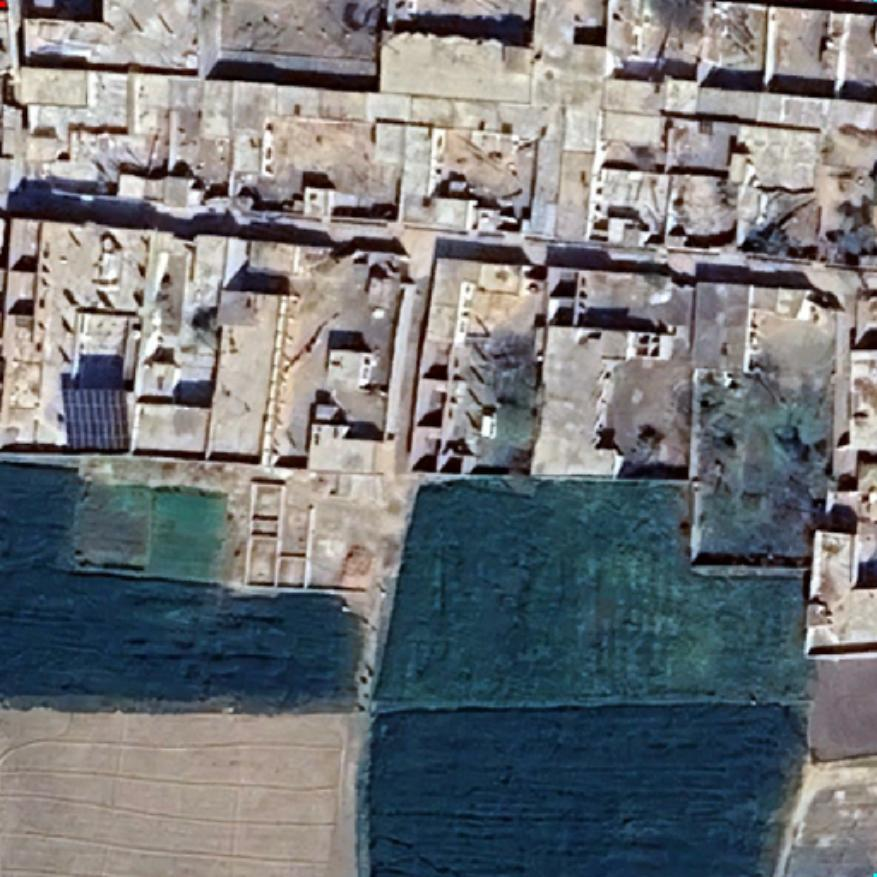Solarpanel: (58, 381, 136, 455)
